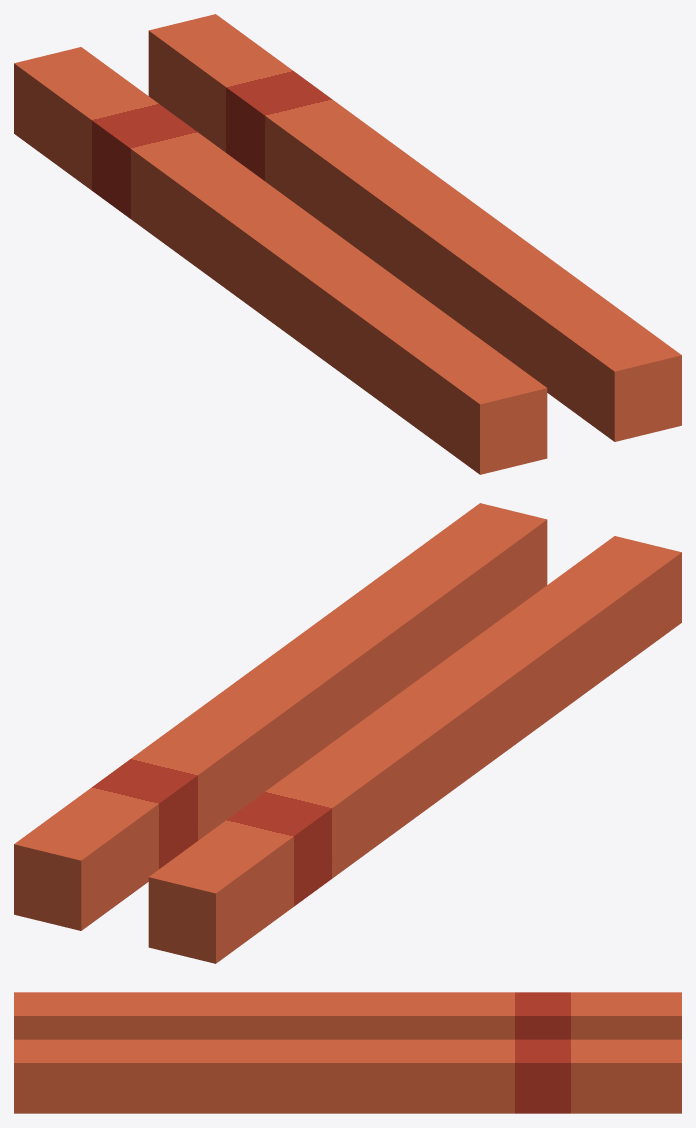
File: PalillosN.fbx
3 views of the same model, one above another, from view 1: azimuth 30°, elevation 25°; view 2: azimuth 150°, elevation 25°; view 3: azimuth 270°, elevation 25° (orthographic). The views are drawn at different scales.
Visible parts, largest first — view 1: Palillos; view 2: Palillos; view 3: Palillos.
Part boxes in pixels (x1=…): Palillos: x1=14, y1=14, x2=681, y2=474; Palillos: x1=14, y1=503, x2=681, y2=963; Palillos: x1=14, y1=992, x2=681, y2=1113.
Size of the model in its own units: 0.3 by 1.2 by 0.1.
